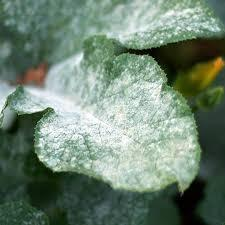powdery_mildew: (22, 26, 192, 200)
